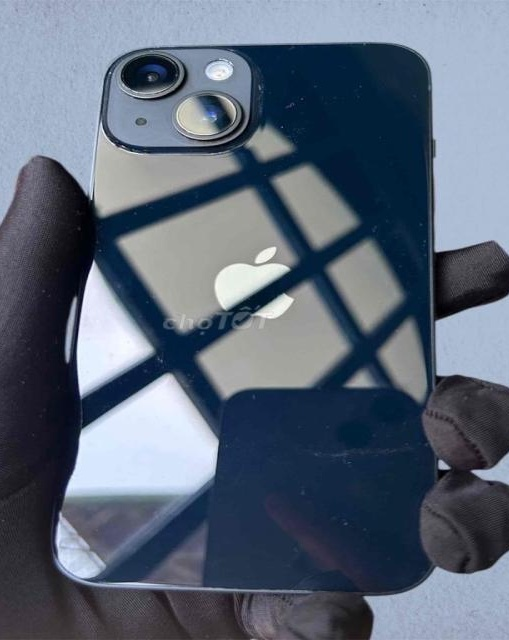scratch: (372, 180, 450, 294), (291, 426, 450, 466), (74, 189, 149, 266), (259, 70, 319, 154), (304, 475, 377, 534), (155, 578, 341, 599), (113, 53, 192, 101), (320, 76, 383, 108), (220, 43, 244, 59), (409, 86, 419, 102)
